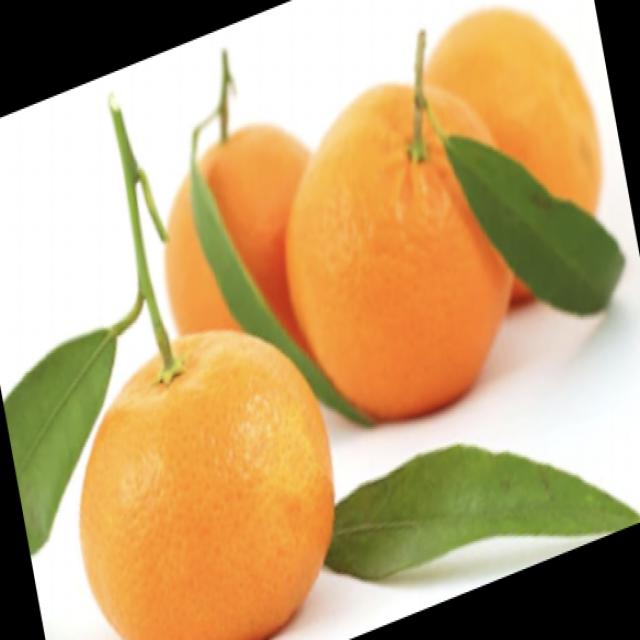fresh: (29, 12, 633, 625)
